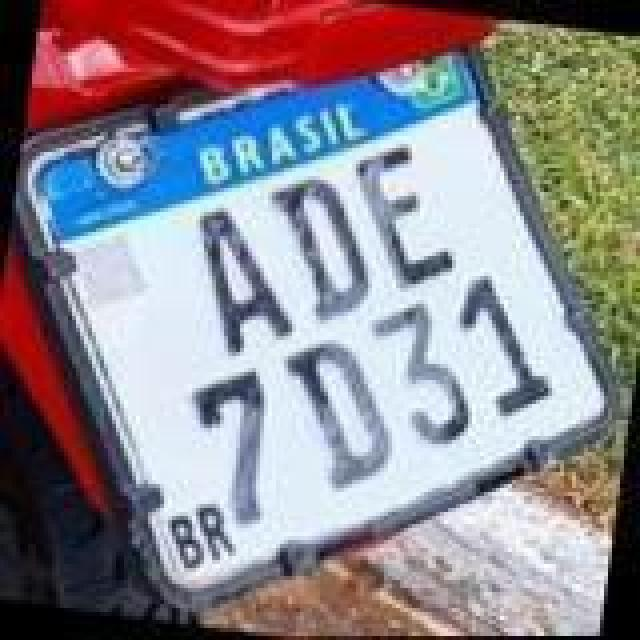1: (442, 272, 566, 428)
3: (350, 296, 490, 452)
7: (176, 360, 288, 532)
A: (176, 206, 312, 366)
D: (264, 332, 408, 496), (250, 172, 390, 328)
E: (334, 134, 474, 294)
